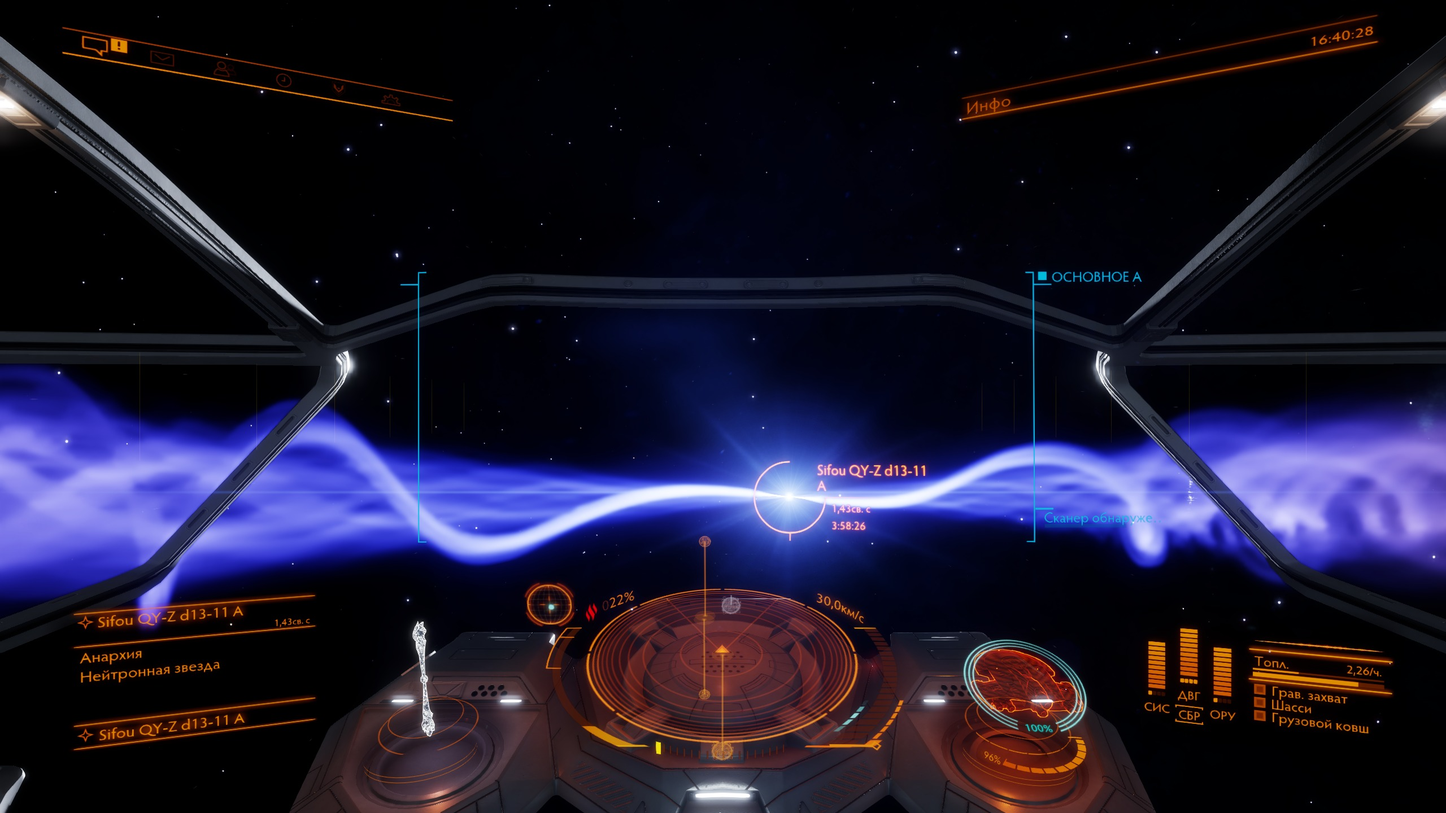core: (763, 470, 811, 522)
jetcone: (854, 377, 1443, 580)
